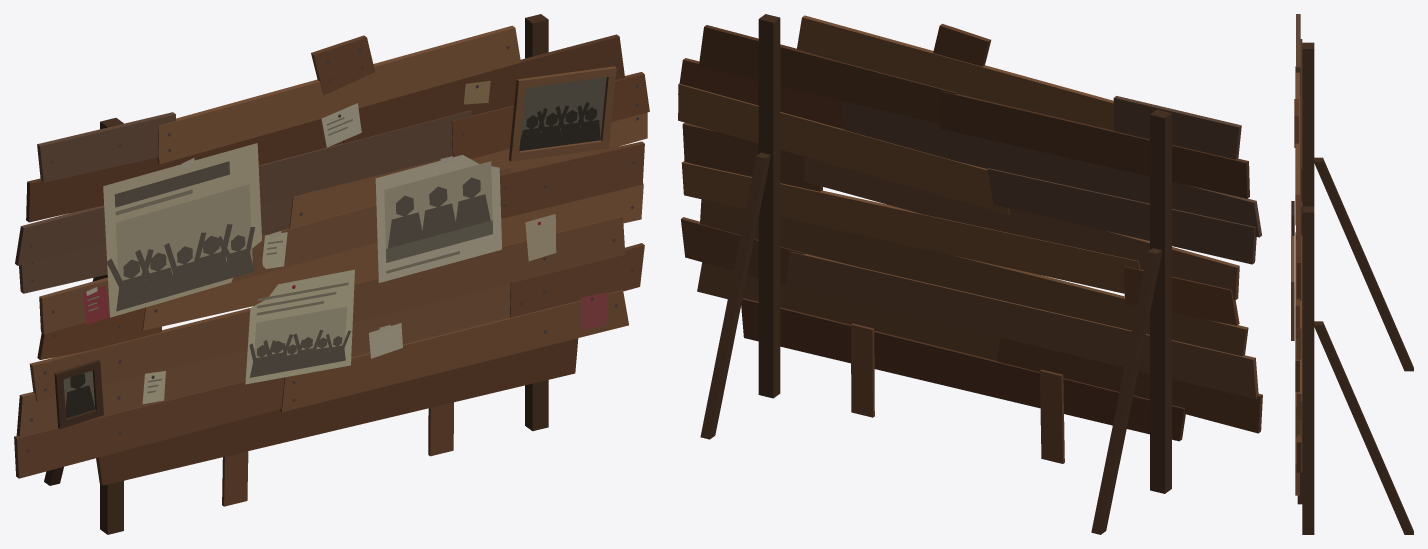
The model's file is tl_furn_memory_board_v01.glb.
The picture shows the model from 3 angles, left to right: view 1: azimuth 30°, elevation 25°; view 2: azimuth 150°, elevation 25°; view 3: azimuth 270°, elevation 25°; orthographic projection. The views are drawn at different scales.
Parts seen in each view (by area): view 1: tl_furn_memory_board_v01; view 2: tl_furn_memory_board_v01; view 3: tl_furn_memory_board_v01.
Boxes of the visible parts, left/top/right/bottom form: tl_furn_memory_board_v01: left=14, top=14, right=649, bottom=534; tl_furn_memory_board_v01: left=678, top=14, right=1262, bottom=534; tl_furn_memory_board_v01: left=1291, top=14, right=1413, bottom=534.
Size of the model in its own units: 4.32 by 2.86 by 0.9189.
